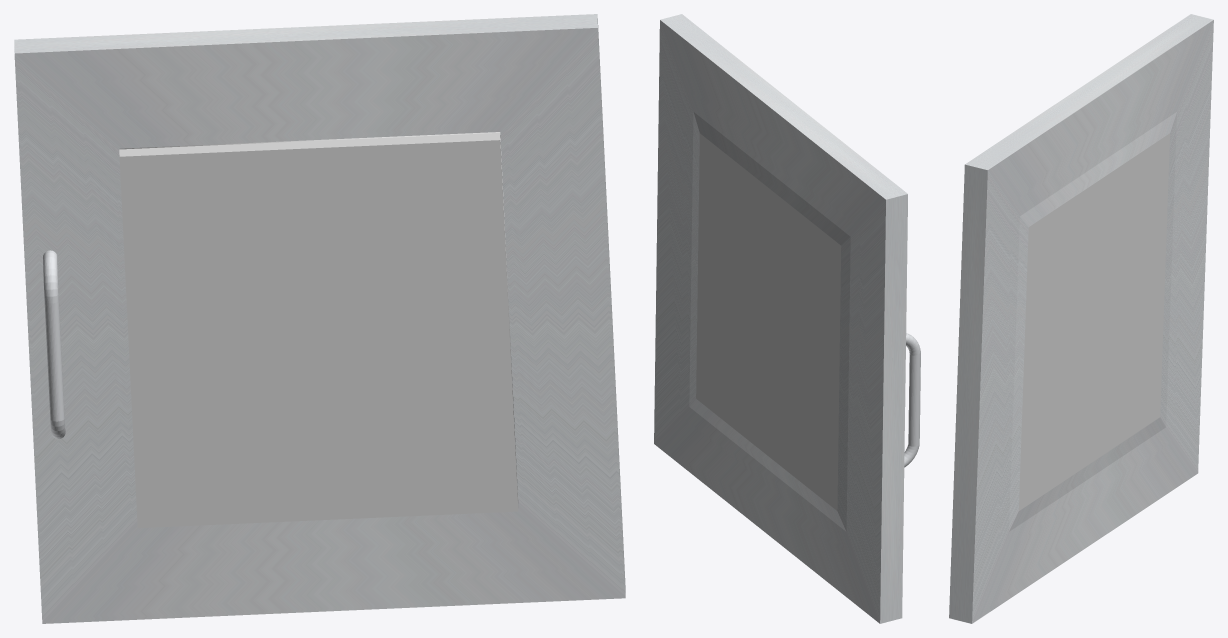
Rendered from 傳送箱門1.fbx.
3 renders of one model, left to right at view 1: azimuth 30°, elevation 25°; view 2: azimuth 150°, elevation 25°; view 3: azimuth 270°, elevation 25°, orthographic. The views are drawn at different scales.
Visible parts, largest first — view 1: Box002; view 2: Box002; view 3: Box002.
Part boxes in pixels (<box>): Box002: <box>14,14,625,623</box>; Box002: <box>654,14,920,623</box>; Box002: <box>949,14,1213,623</box>.
Bounding box in the file's own units: 60.08 × 71.93 × 37.09.
2 materials, 1 textured.
